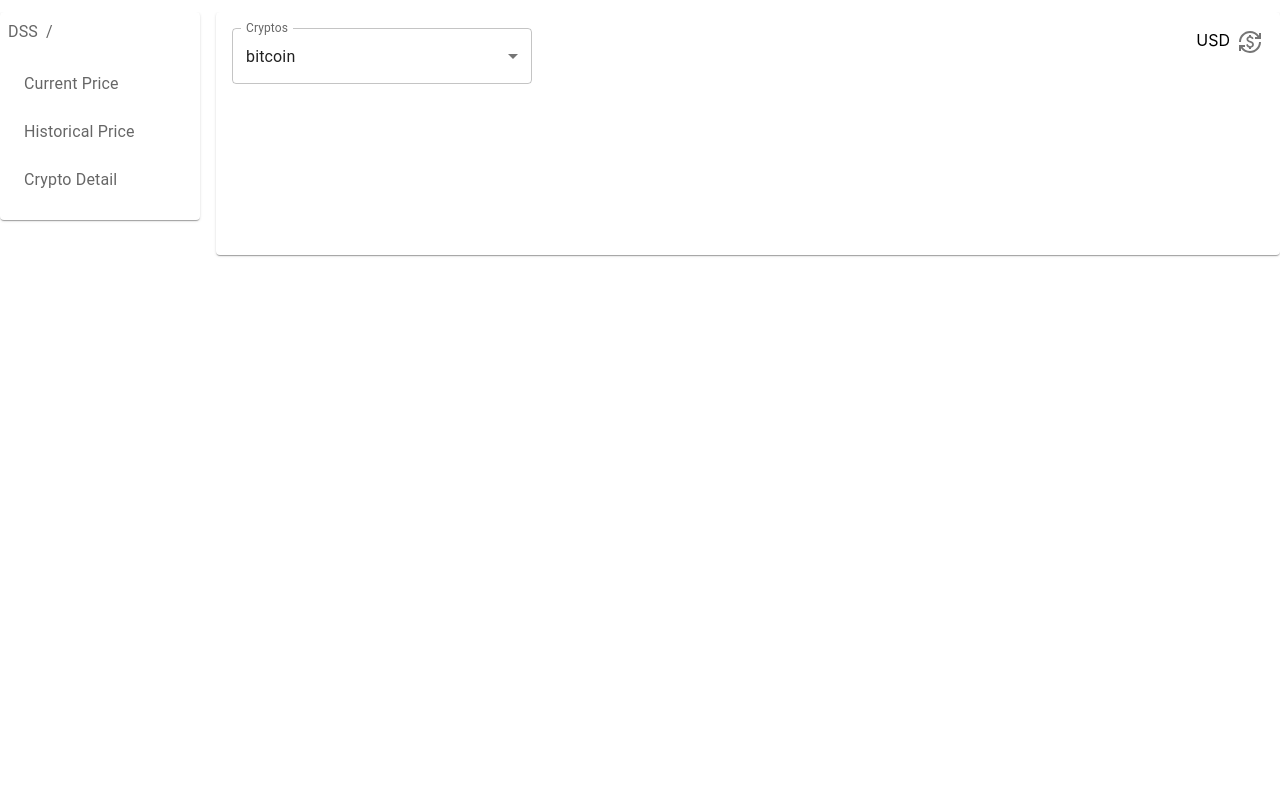
it: App component › Crypto Detail page have canvas
The image size is (1280, 812).
Click the link "Crypto Detail" at (71, 180), box top-left (24, 170), bottom-right (117, 189)
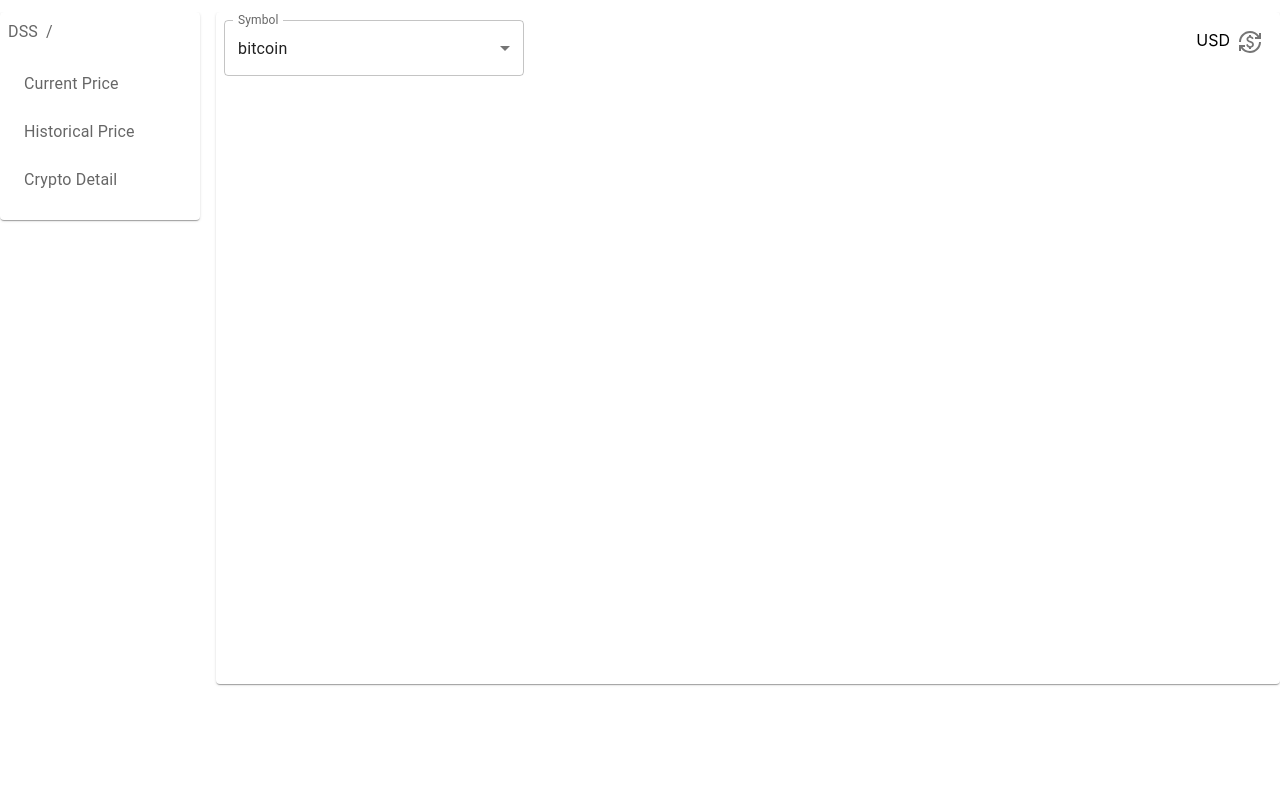
Now the element with id "ohlcChart" is shown
